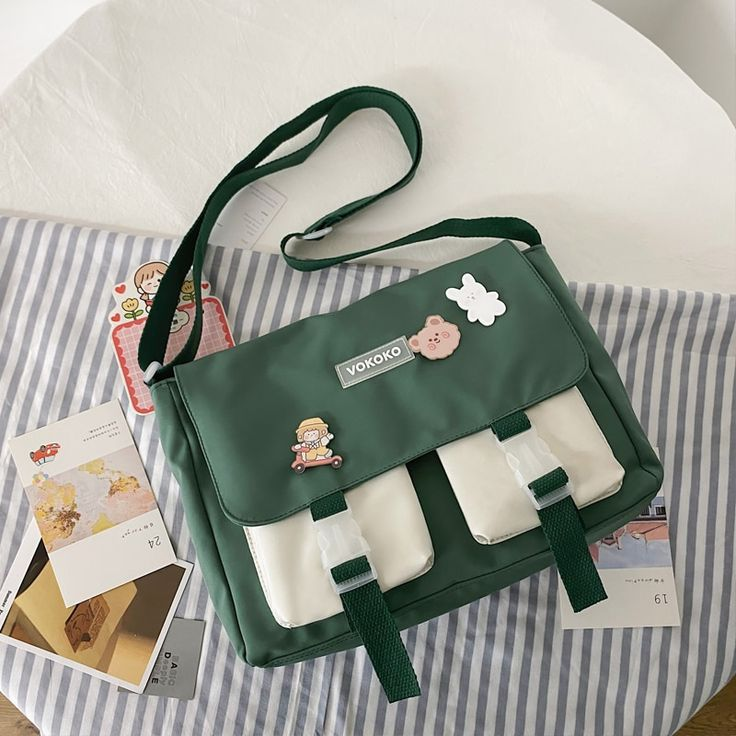nylon: (151, 240, 665, 670)
